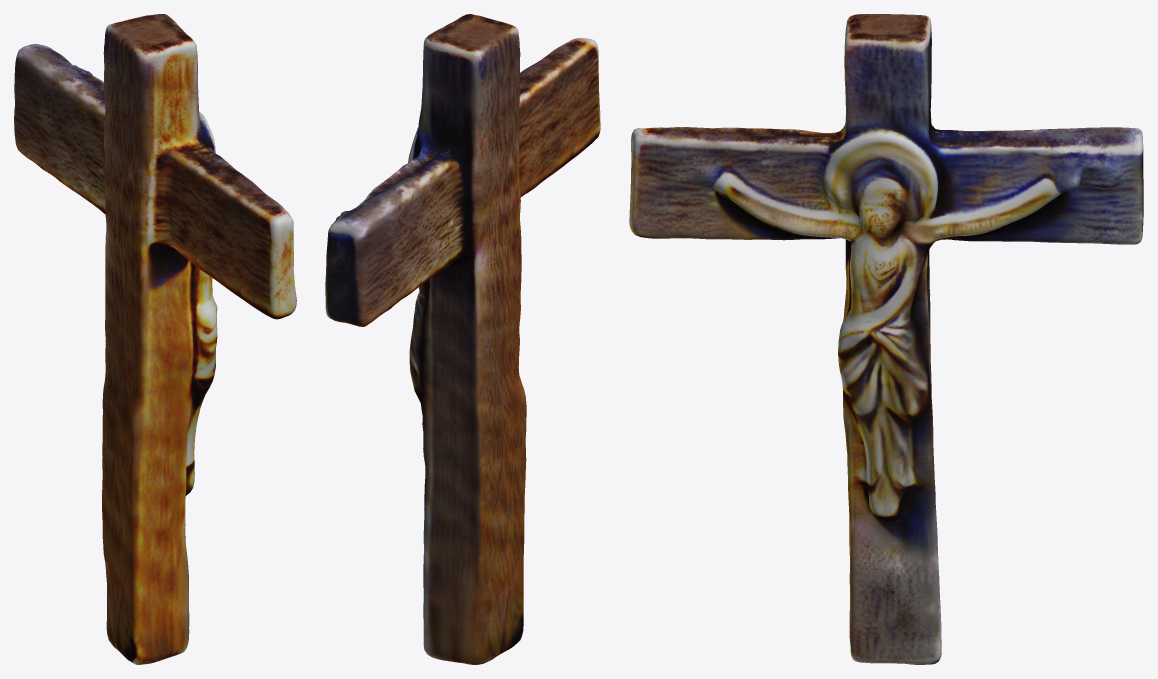
The model's file is 0a0099705712_a_wooden_cross_with.fbx.
The picture shows the model from 3 angles, left to right: view 1: azimuth 30°, elevation 25°; view 2: azimuth 150°, elevation 25°; view 3: azimuth 270°, elevation 25°; orthographic projection. The views are drawn at different scales.
Visible parts, largest first — view 1: mesh; view 2: mesh; view 3: mesh.
Boxes of the visible parts, <box> form: mesh: <box>14,14,296,664</box>; mesh: <box>325,14,600,664</box>; mesh: <box>629,14,1143,664</box>.
Size of the model in its own units: 15.51 by 99.95 by 73.62.
